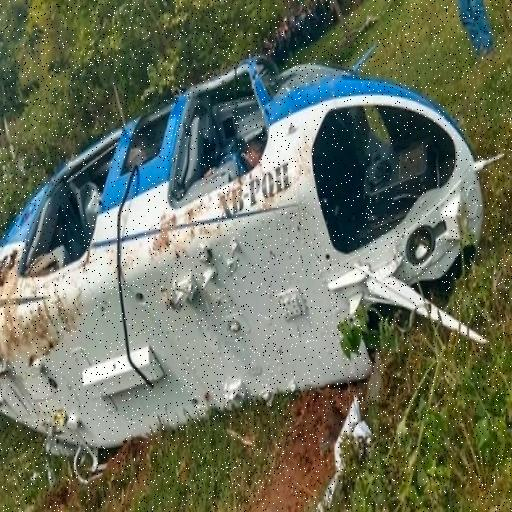helicopter: (1, 1, 496, 507)
